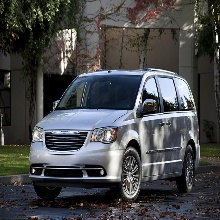no damage: (29, 68, 201, 200)
